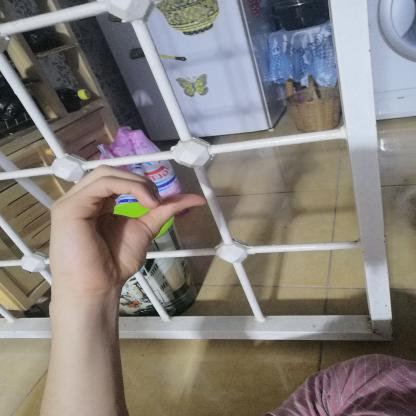WAW: (31, 155, 218, 302)
